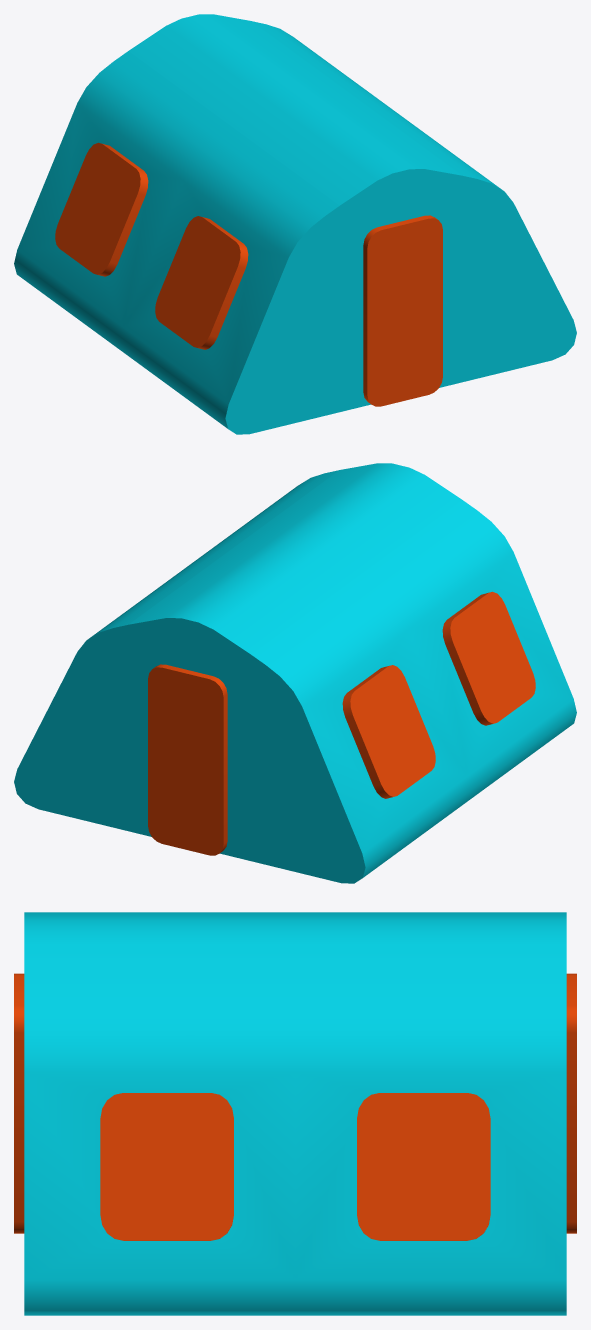
File: Tent .fbx
3 renders of one model, top to bottom at view 1: azimuth 30°, elevation 25°; view 2: azimuth 150°, elevation 25°; view 3: azimuth 270°, elevation 25°, orthographic. The views are drawn at different scales.
Parts seen in each view (by area): view 1: Tent; view 2: Tent; view 3: Tent.
Boxes of the visible parts, x1=… form: Tent: x1=14, y1=14, x2=576, y2=434; Tent: x1=14, y1=463, x2=576, y2=883; Tent: x1=14, y1=912, x2=576, y2=1315.
Size of the model in its own units: 376 by 231 by 406.
